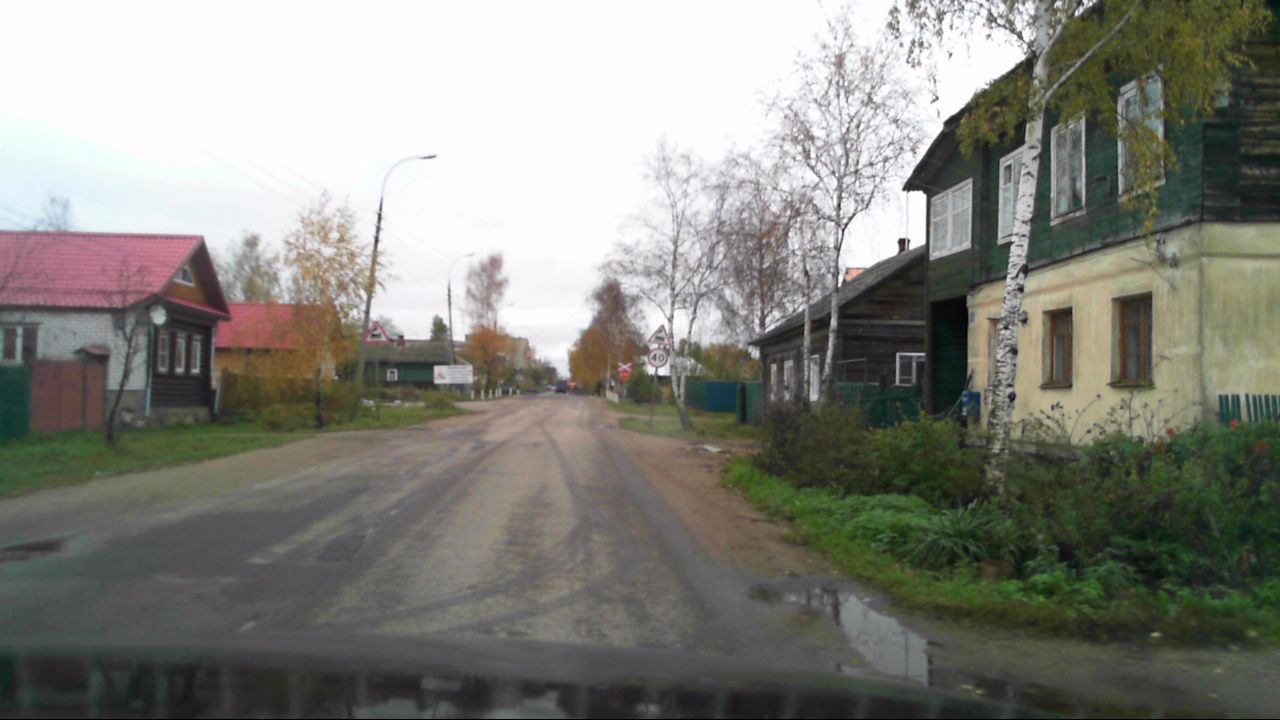speed_warning_40: (649, 347, 667, 366)
